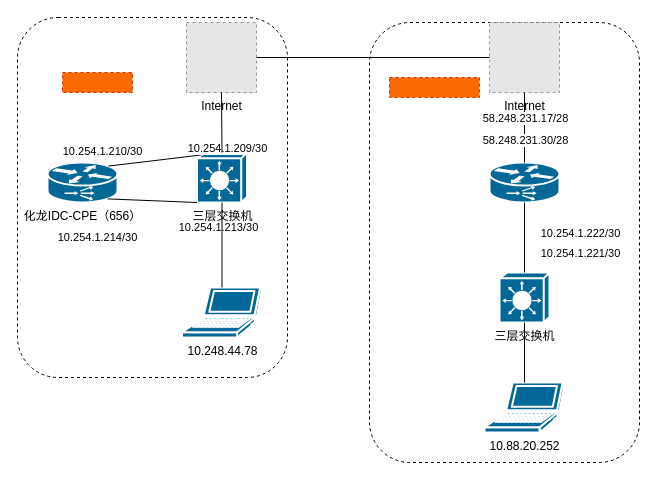
This 657x480 diagram has some shape labels left out. Grey dashed boxes stand in for pictures. Each missing label, with the box of its shape:
化龙IDC: (62, 72, 132, 92)
广汽新能源: (388, 76, 480, 98)
广汽新能源-CPE（672）: (488, 161, 560, 203)
